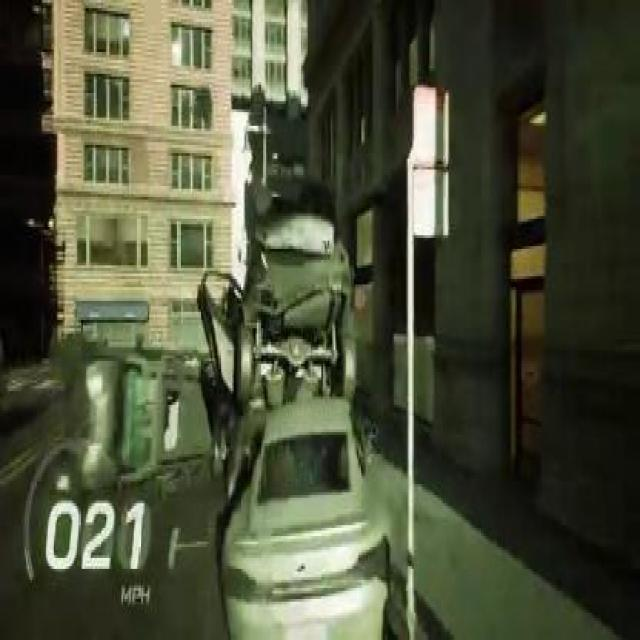accident: (192, 183, 390, 638), (46, 319, 182, 502)
